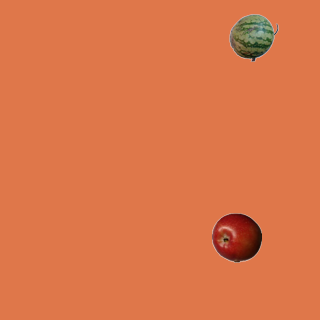Apple Braeburn: (211, 212, 261, 262)
Watermelon: (228, 12, 278, 62)
